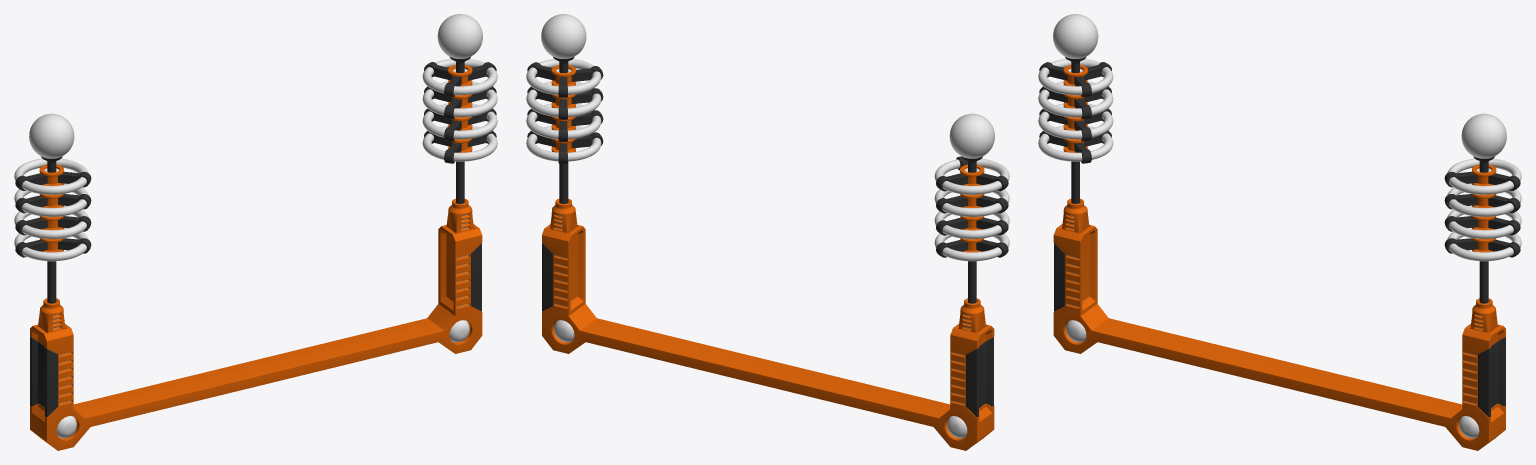
The model's file is tesla_coils.fbx.
The picture shows the model from 3 angles, left to right: view 1: azimuth 30°, elevation 25°; view 2: azimuth 150°, elevation 25°; view 3: azimuth 330°, elevation 25°; orthographic projection.
Parts seen in each view (by area): view 1: Cube.011, Cylinder.061, Icosphere, Cylinder, Cube.013, Cube.012; view 2: Cube.011, Cylinder.061, Icosphere, Cylinder, Cube.013, Cube.012; view 3: Cube.011, Cylinder.061, Icosphere, Cylinder, Cube.013, Cube.012.
Part boxes in pixels (left/top/right/bottom): Cube.011: left=30, top=224, right=482, bottom=450; Cylinder.061: left=14, top=59, right=497, bottom=261; Icosphere: left=29, top=14, right=482, bottom=158; Cylinder: left=38, top=56, right=473, bottom=332; Cube.013: left=30, top=243, right=481, bottom=417; Cube.012: left=56, top=320, right=469, bottom=438; Cube.011: left=542, top=224, right=994, bottom=450; Cylinder.061: left=526, top=59, right=1009, bottom=261; Icosphere: left=541, top=14, right=994, bottom=158; Cylinder: left=550, top=56, right=985, bottom=332; Cube.013: left=542, top=243, right=993, bottom=417; Cube.012: left=554, top=320, right=967, bottom=438; Cube.011: left=1053, top=224, right=1505, bottom=450; Cylinder.061: left=1038, top=59, right=1521, bottom=261; Icosphere: left=1053, top=14, right=1506, bottom=158; Cylinder: left=1062, top=56, right=1497, bottom=332; Cube.013: left=1054, top=243, right=1505, bottom=417; Cube.012: left=1066, top=320, right=1479, bottom=438.
Size of the model in its own units: 1129 by 742 by 153.
